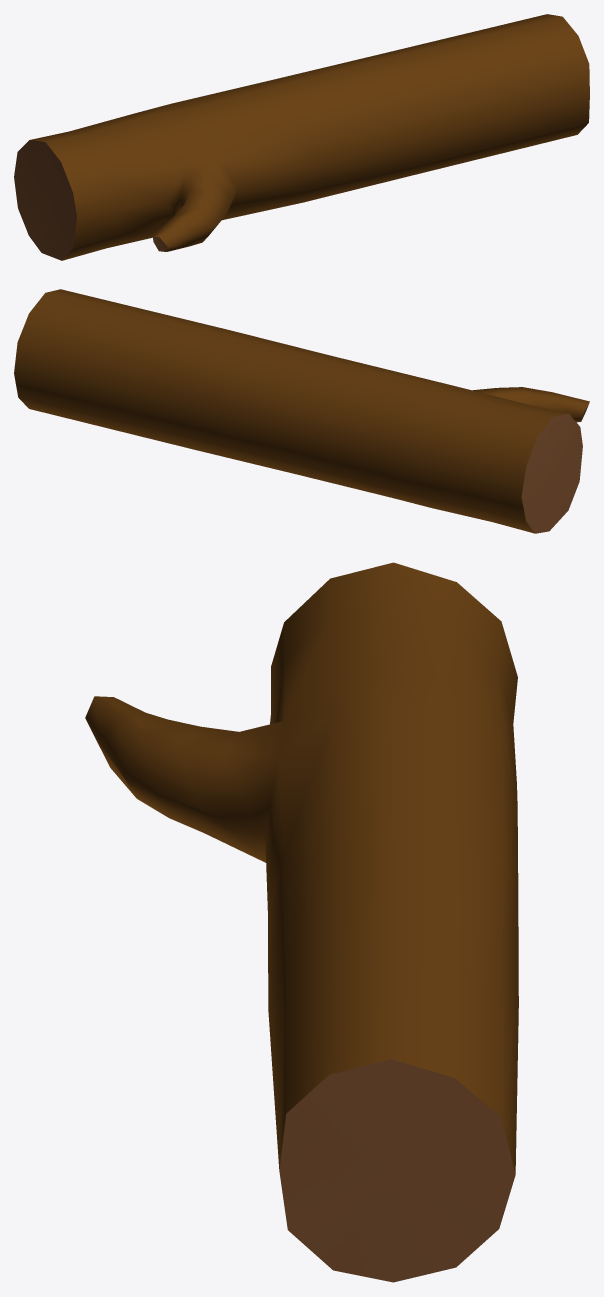
File: Log2.FBX
3 views of the same model, one above another, from view 1: azimuth 30°, elevation 25°; view 2: azimuth 150°, elevation 25°; view 3: azimuth 270°, elevation 25° (orthographic). The views are drawn at different scales.
Visible parts, largest first — view 1: log2_LP; view 2: log2_LP; view 3: log2_LP.
Boxes of the visible parts, <box> form: log2_LP: <box>14,14,589,260</box>; log2_LP: <box>14,289,589,533</box>; log2_LP: <box>85,562,518,1282</box>.
Size of the model in its own units: 18.44 by 3.93 by 6.78.
Materials: 1 (1 with a texture image).
